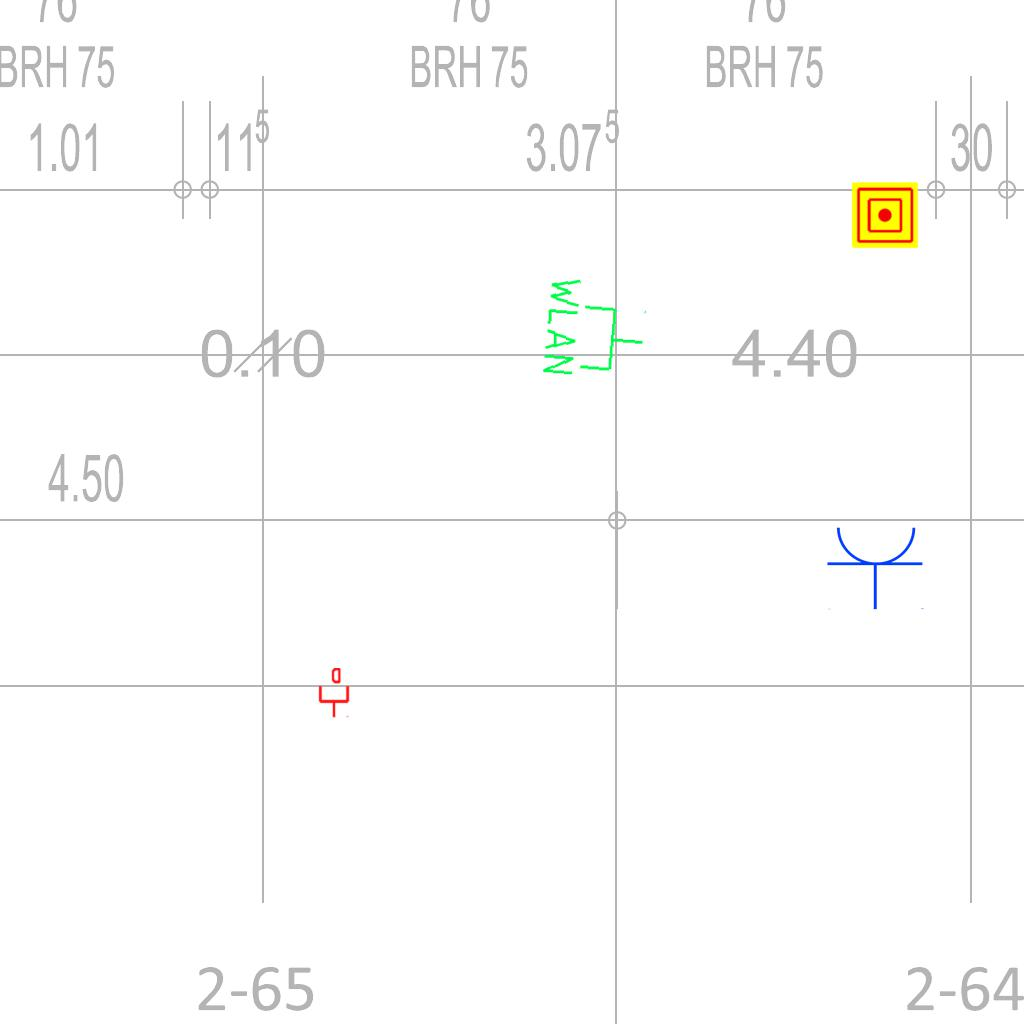Datenanschluss_einfach: (317, 668, 351, 718)
NAM-Nichtautomatischer_Melder: (852, 182, 918, 248)
Schukosteckdose_einfach: (826, 523, 926, 610)
WLAN: (538, 271, 652, 386)
